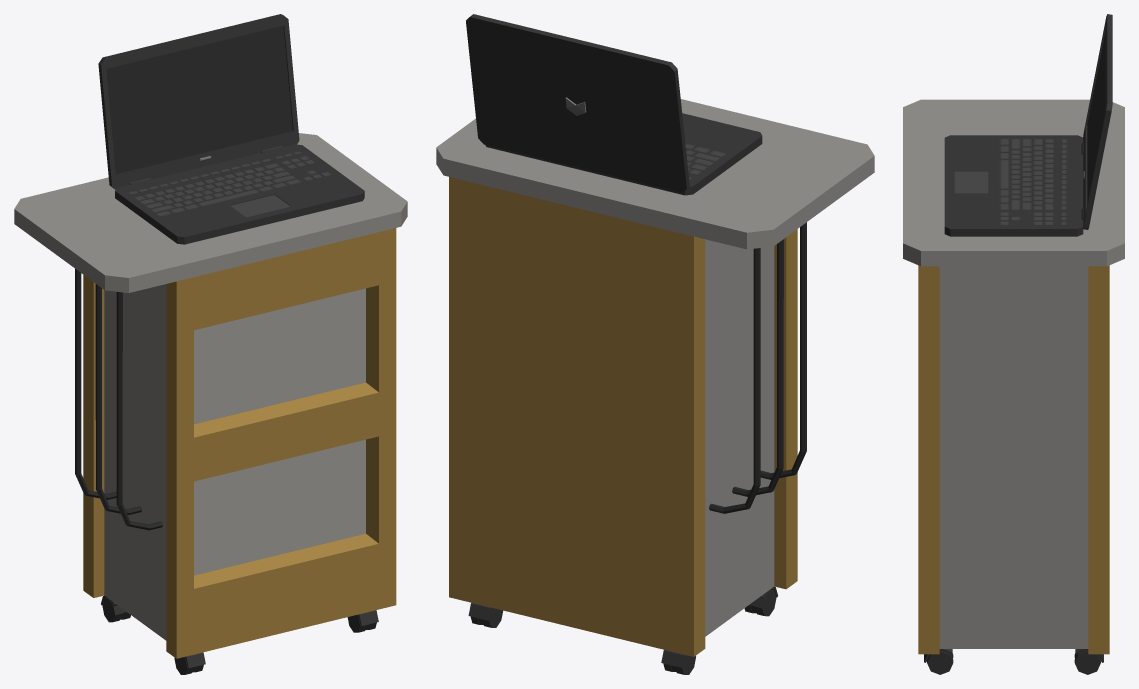
Rendered from SM_Props_Interior_Shop_AutoRepair_Equipment.fbx.
The picture shows the model from 3 angles, left to right: view 1: azimuth 30°, elevation 25°; view 2: azimuth 150°, elevation 25°; view 3: azimuth 270°, elevation 25°; orthographic projection. The views are drawn at different scales.
Visible parts, largest first — view 1: SM_Props_Interior_Shop_AutoRepair_Equipment; view 2: SM_Props_Interior_Shop_AutoRepair_Equipment; view 3: SM_Props_Interior_Shop_AutoRepair_Equipment.
Part boxes in pixels (left/top/right/bottom): SM_Props_Interior_Shop_AutoRepair_Equipment: left=14, top=14, right=407, bottom=674; SM_Props_Interior_Shop_AutoRepair_Equipment: left=436, top=14, right=874, bottom=674; SM_Props_Interior_Shop_AutoRepair_Equipment: left=903, top=14, right=1124, bottom=674.
Size of the model in its own units: 84 by 147 by 52.
